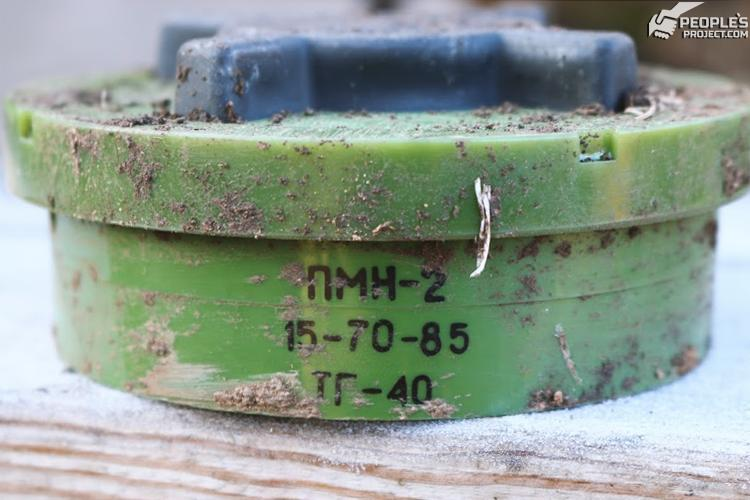pmn: (0, 5, 750, 427)
